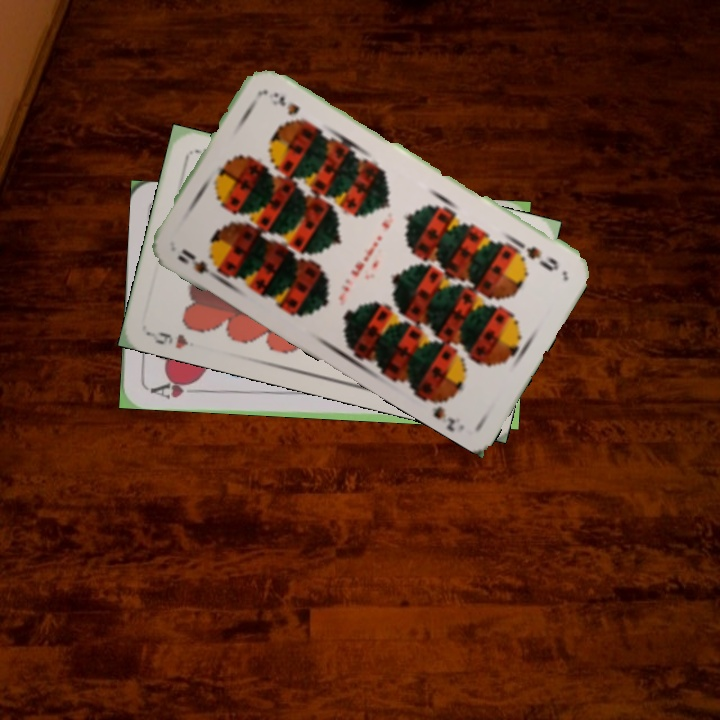H9: (146, 328, 191, 352)
HA: (147, 375, 204, 401)
S9: (173, 245, 225, 283), (510, 237, 561, 274)
